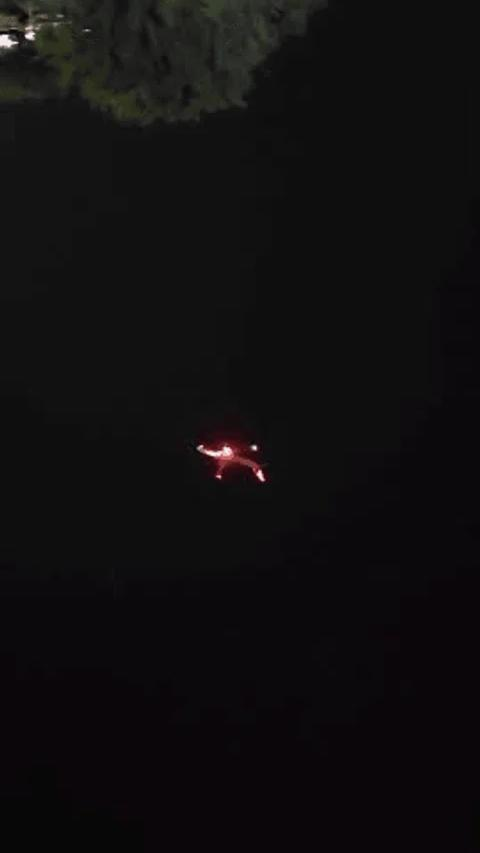Plane: (167, 387, 293, 516)
